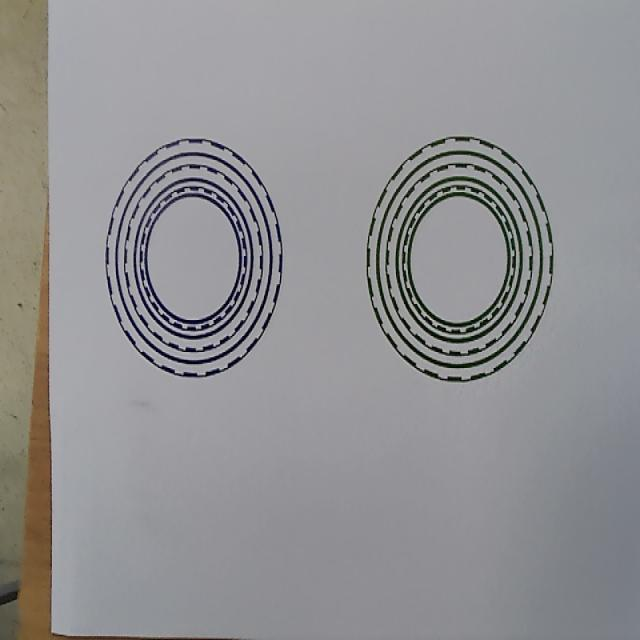b: (105, 137, 283, 377)
g: (366, 135, 554, 383)
